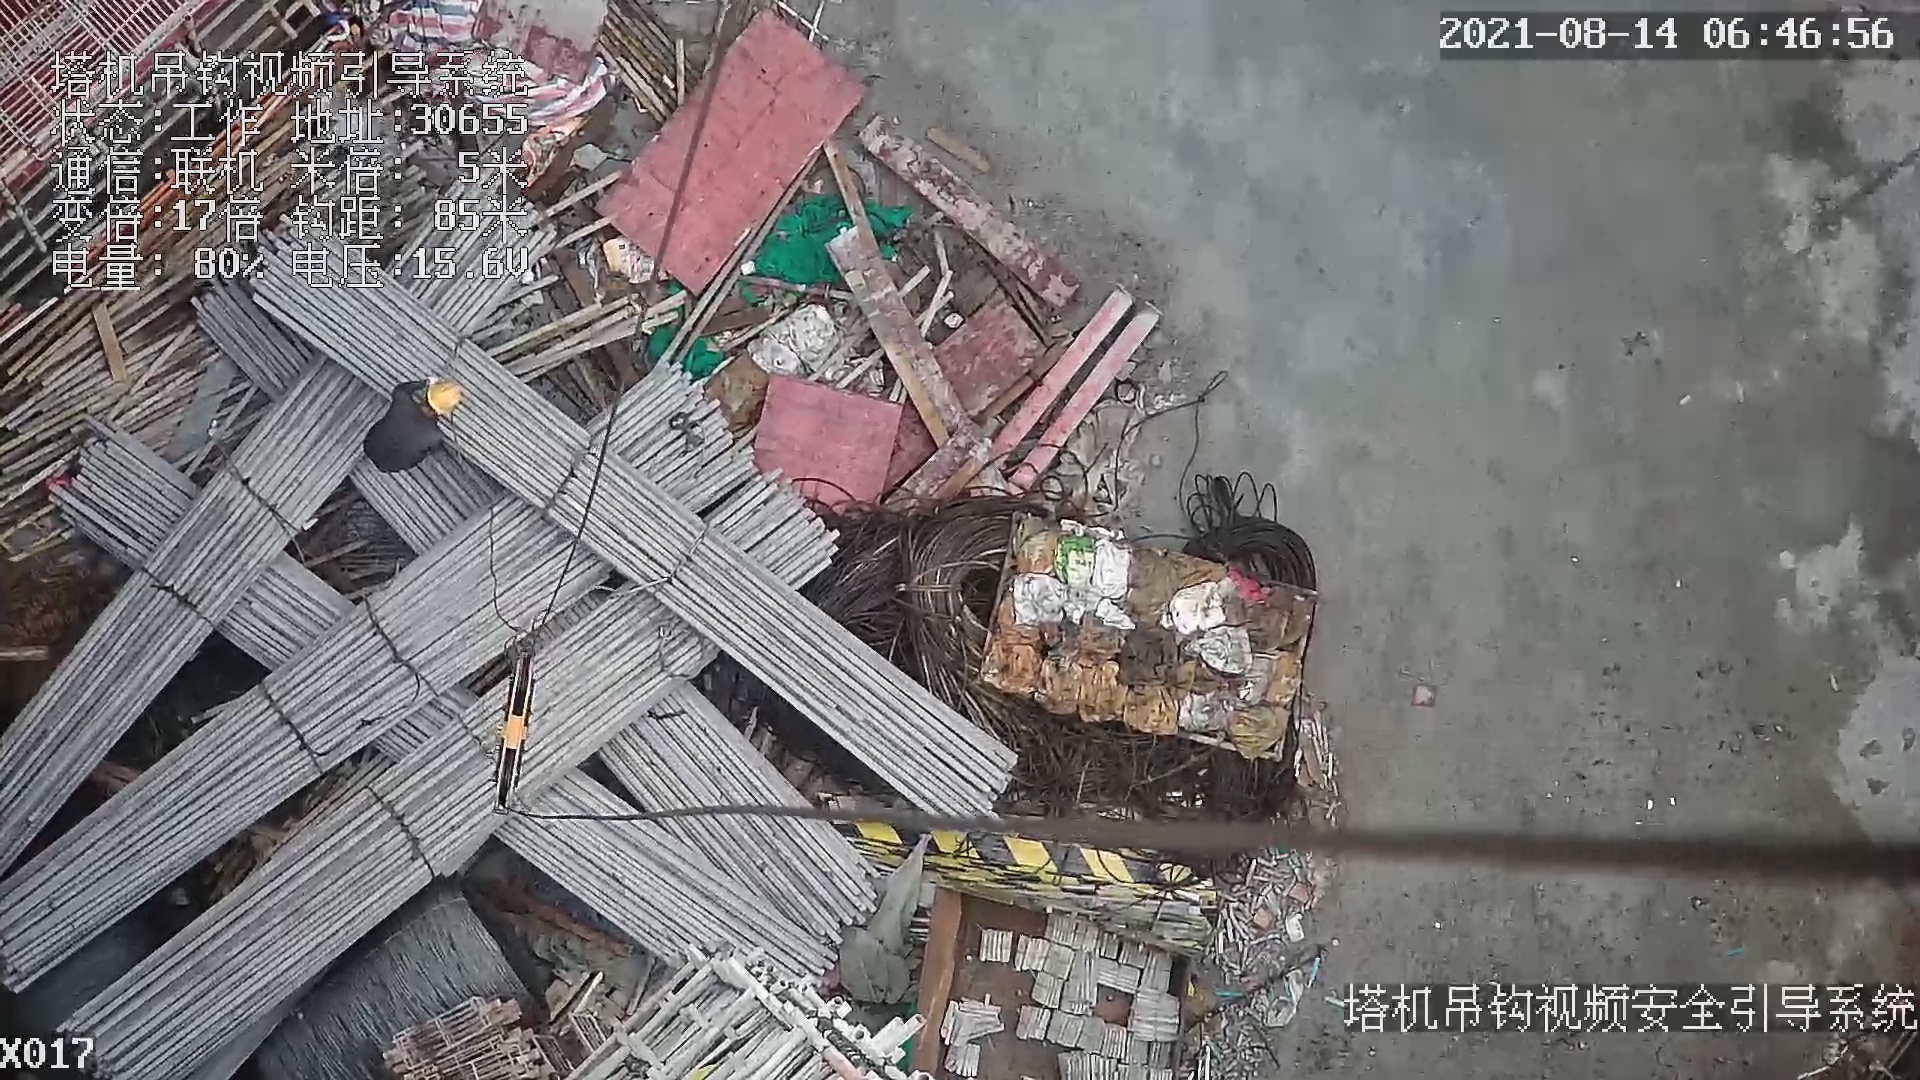board: (591, 6, 852, 298)
helmet: (426, 376, 466, 413)
hook: (486, 642, 538, 822)
person: (362, 362, 459, 472)
